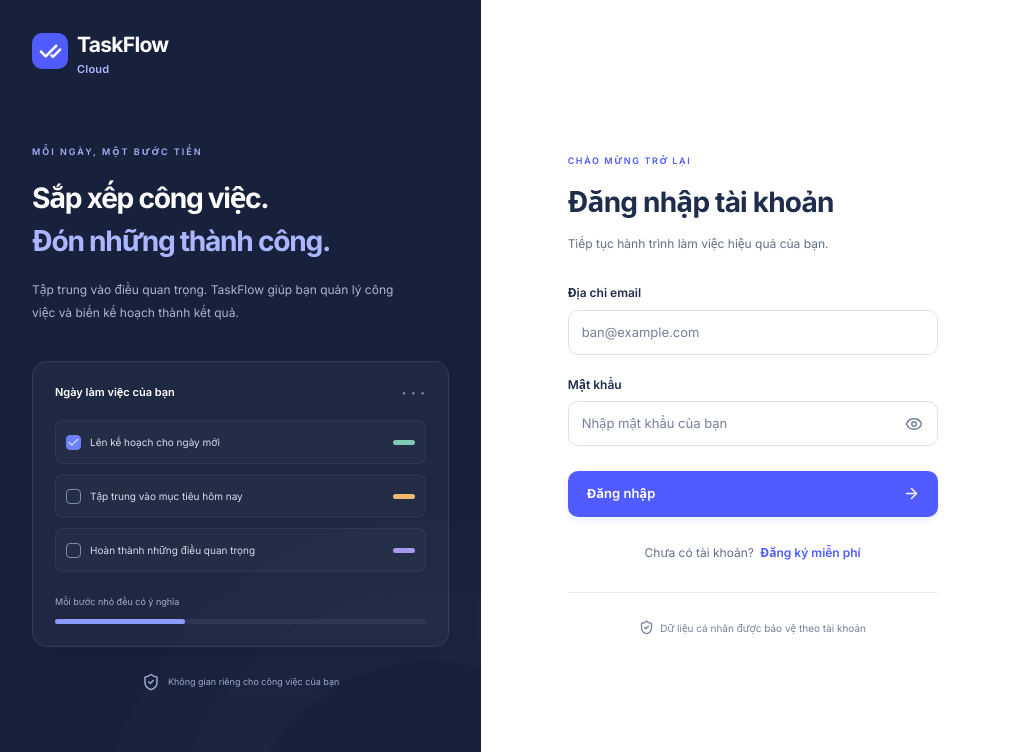
Scenario: frontend application flows (mock HTTP, no live Atlas writes) › shows login failures, then uses the authenticated response for dashboard data
This screenshot has width=1024, height=752.
Check: the heading "Đăng nhập tài khoản" is shown, box [568, 185, 834, 219]
In the field labelled "Địa chỉ email": (753,332) [568, 310, 938, 354], type "an@example.com"
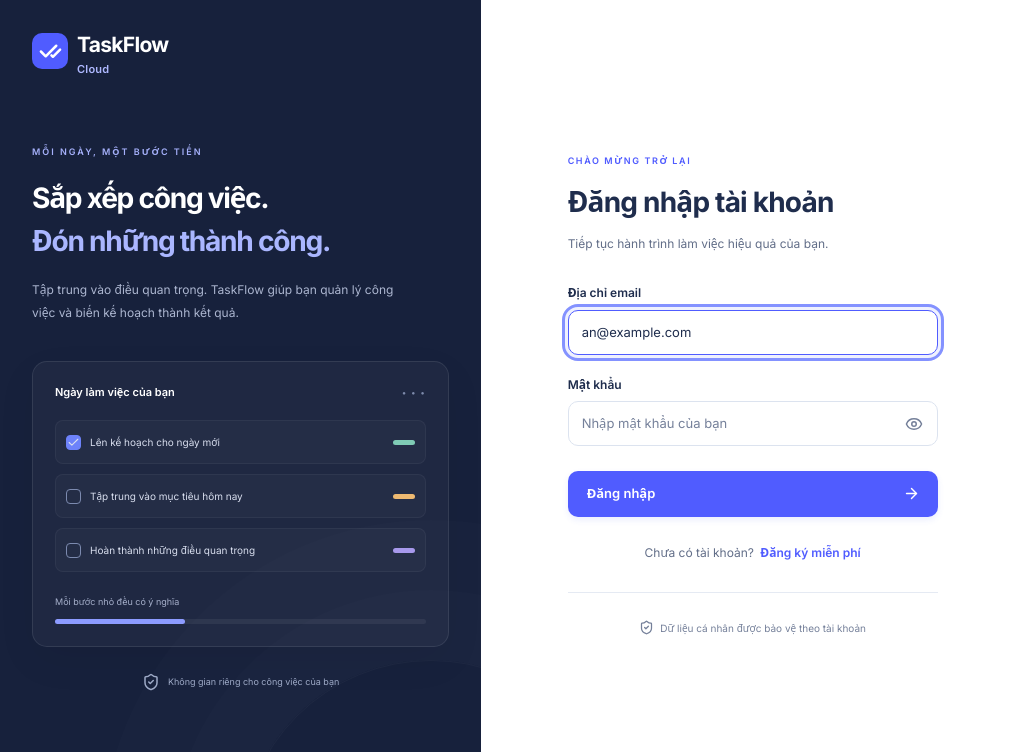
In the password field labelled "Mật khẩu": (753,423) [568, 401, 938, 446], type "SafePassword123"
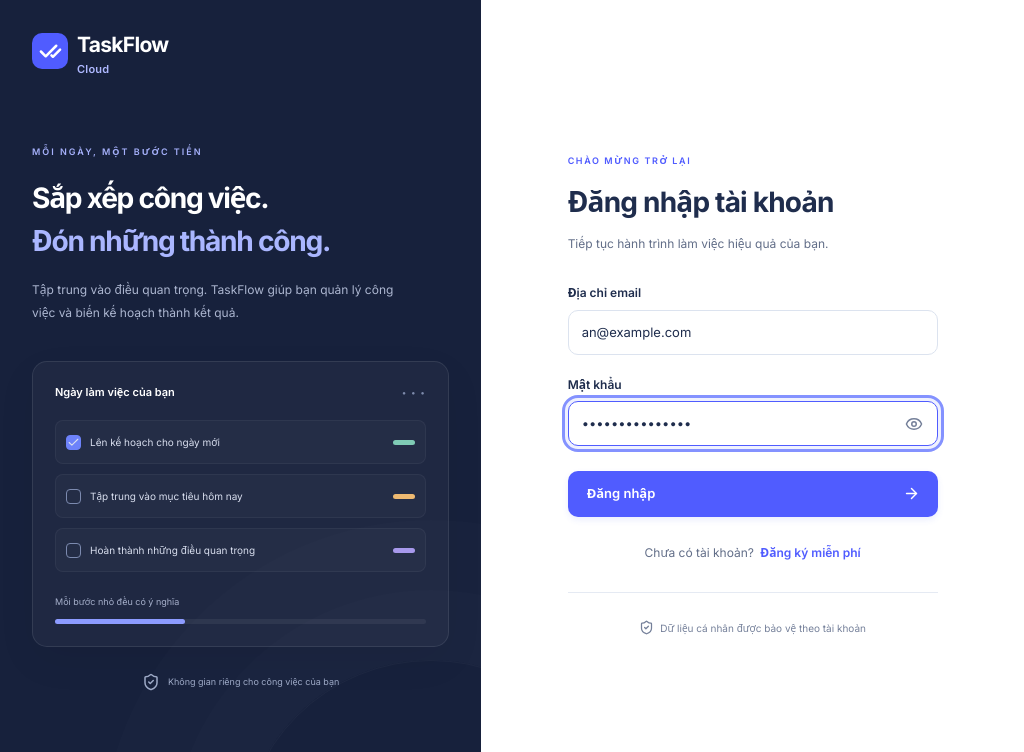
Click the button "Đăng nhập": (621,493) [568, 471, 938, 517]
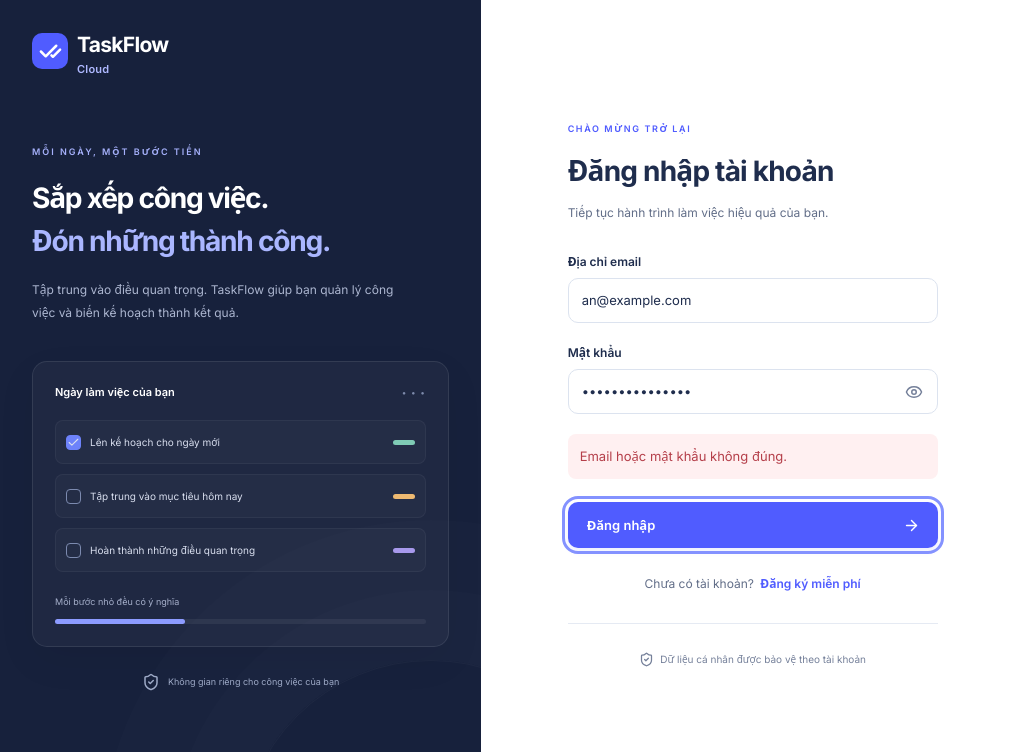
Check: the message reads "Email hoặc mật khẩu không đúng.", box [580, 448, 787, 464]
Click the button "Đăng nhập": (621,525) [568, 502, 938, 548]
(page scrolled)
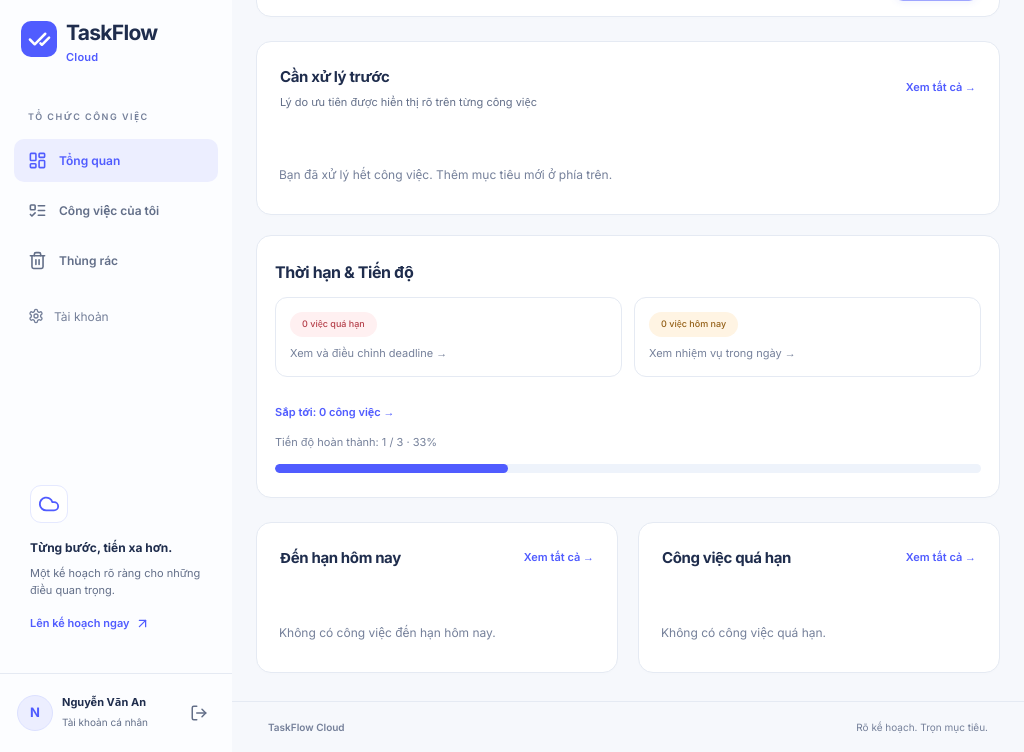
Check: the text "Tiến độ hoàn thành: 1 / 3 · 33%" is shown, box [275, 435, 437, 449]
